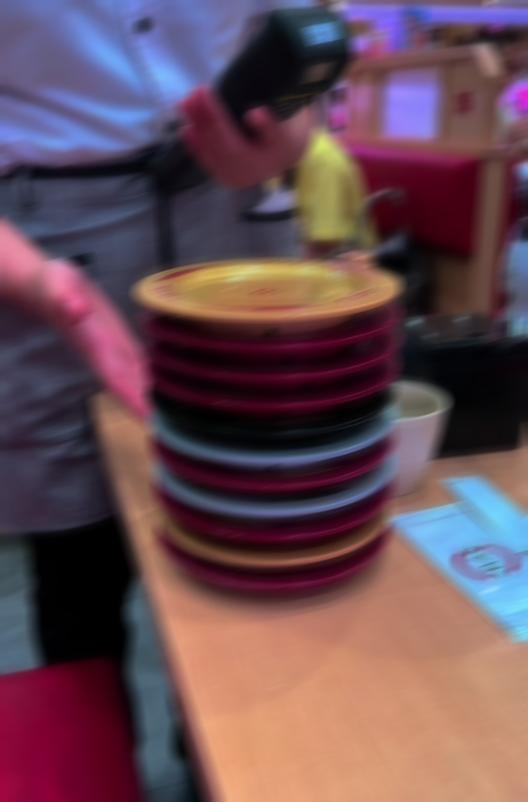Janback: (160, 422, 389, 442)
Jangold: (134, 259, 403, 310), (181, 545, 351, 565)
Janred: (175, 472, 380, 496), (163, 362, 399, 382), (183, 521, 378, 540), (196, 573, 377, 592), (151, 338, 400, 351), (169, 392, 380, 407)
Janwhite: (169, 499, 365, 515), (178, 450, 364, 461)
